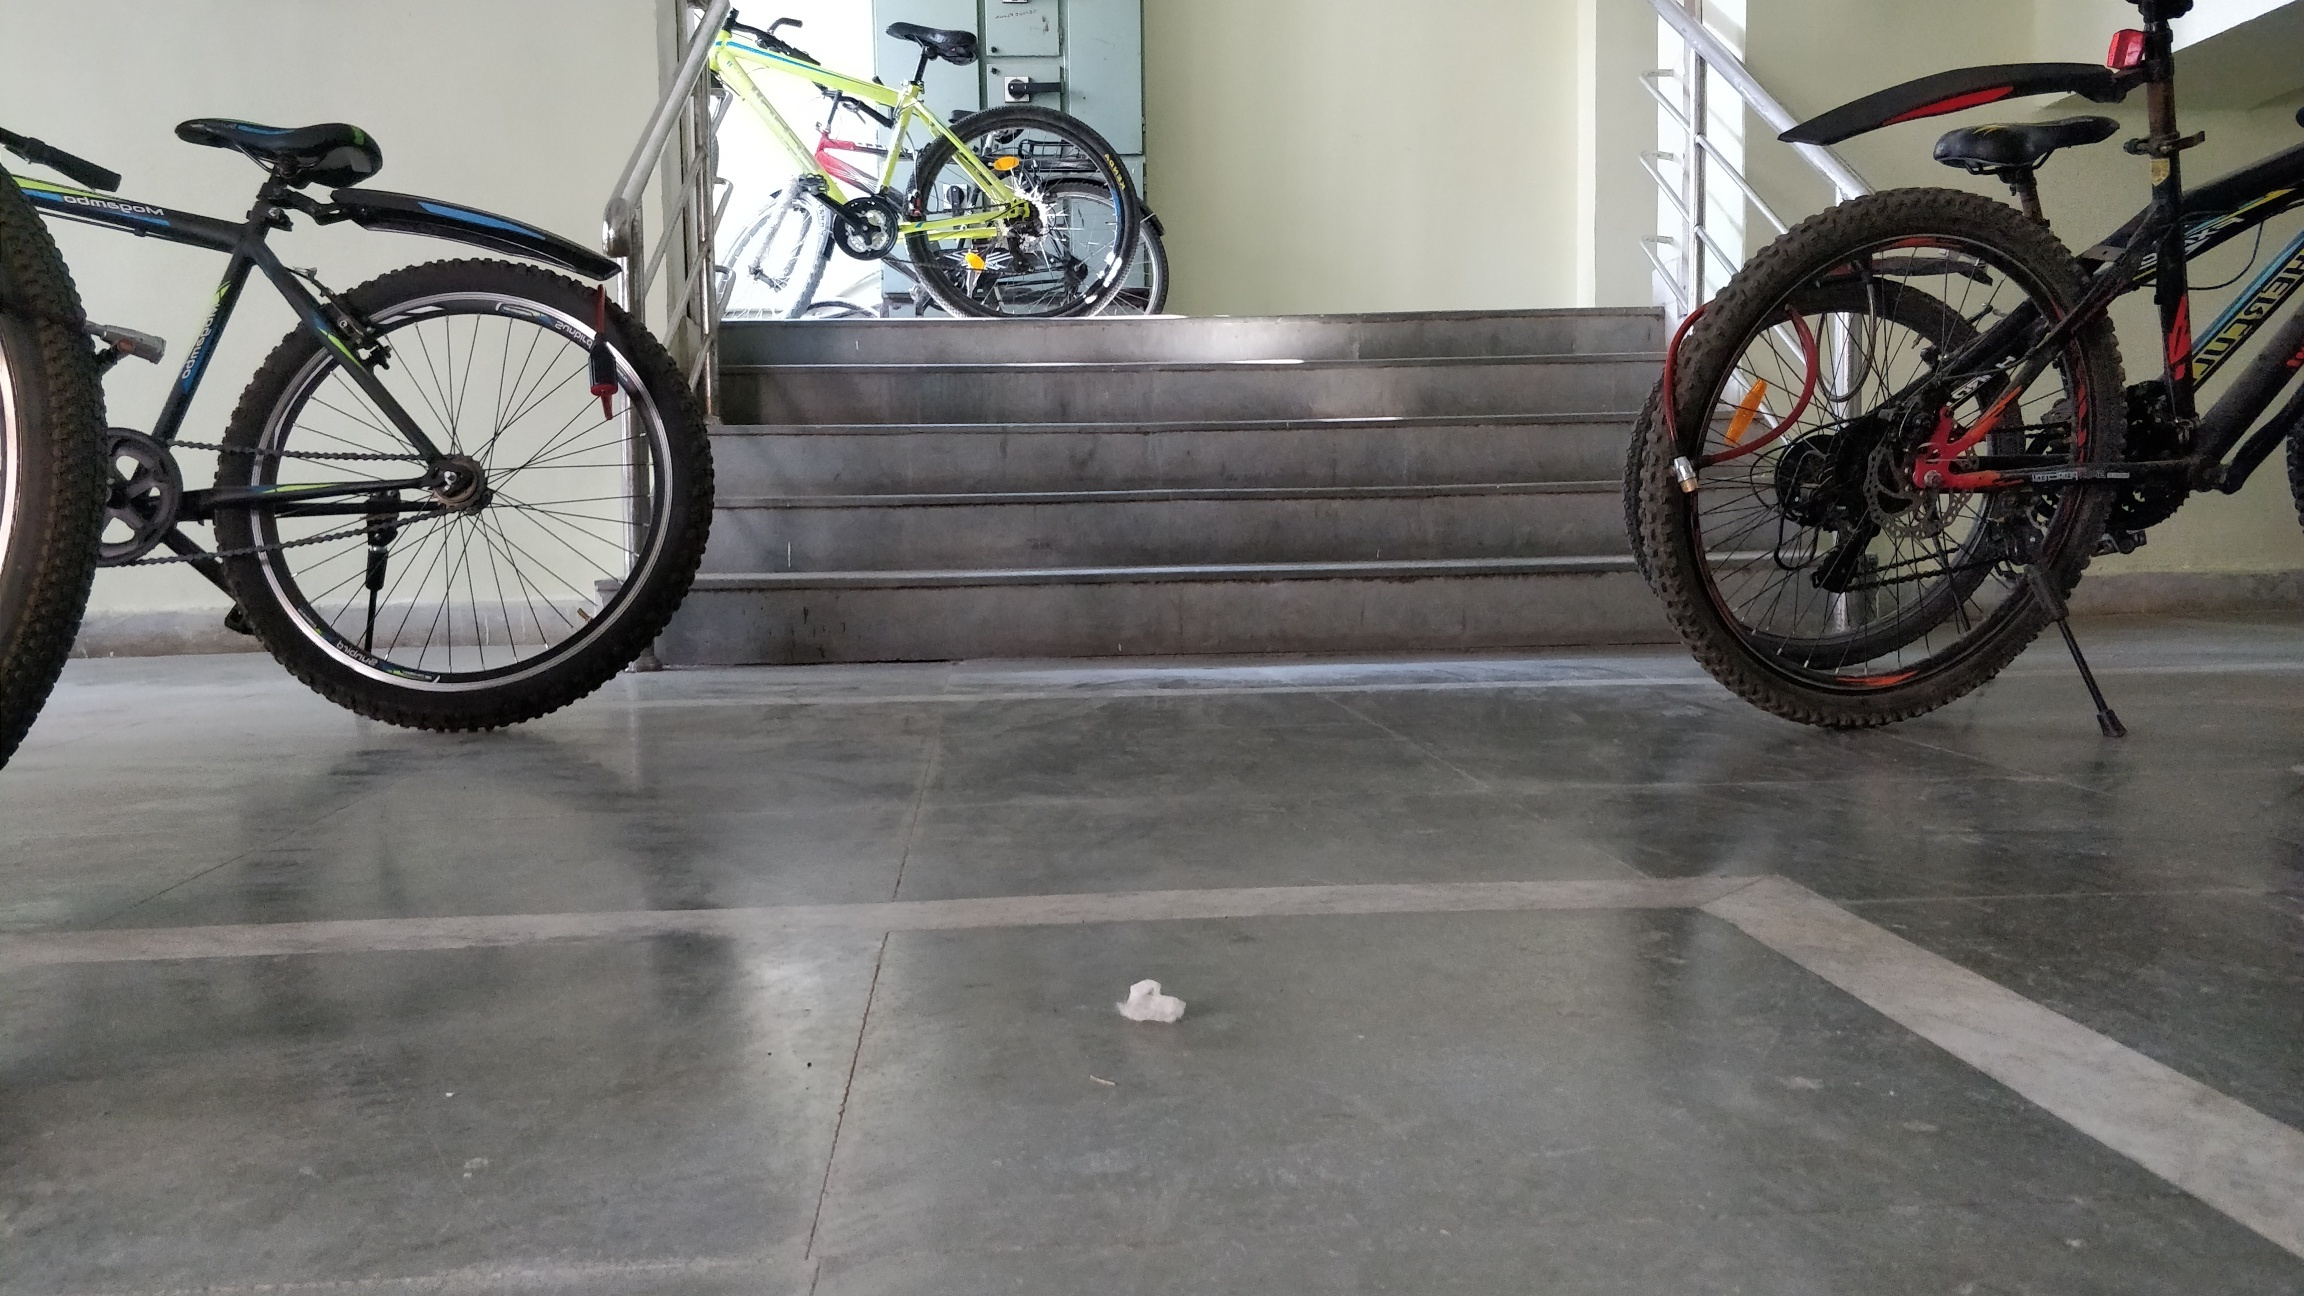stairs_up: (703, 312, 1749, 650)
